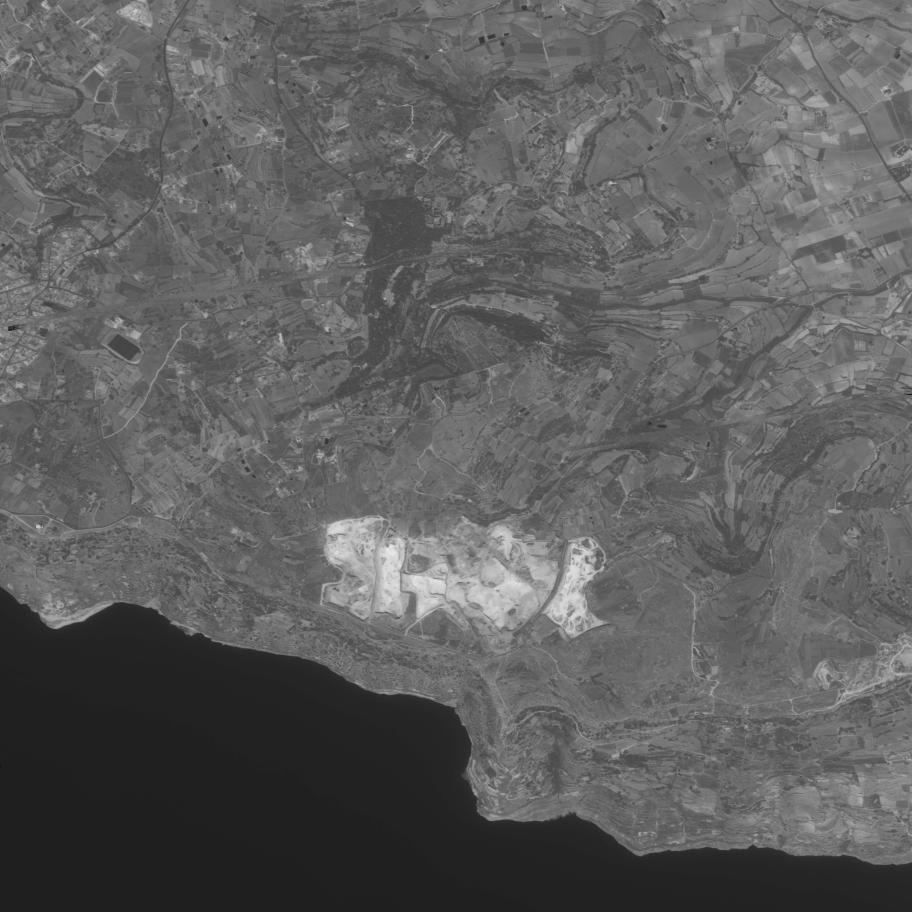storage-tank: (36, 524, 41, 530)
